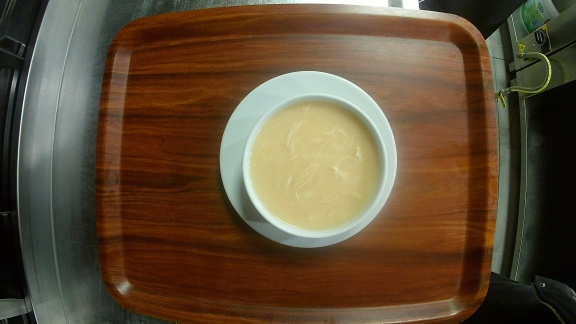tavukcorba: (217, 69, 398, 249)
